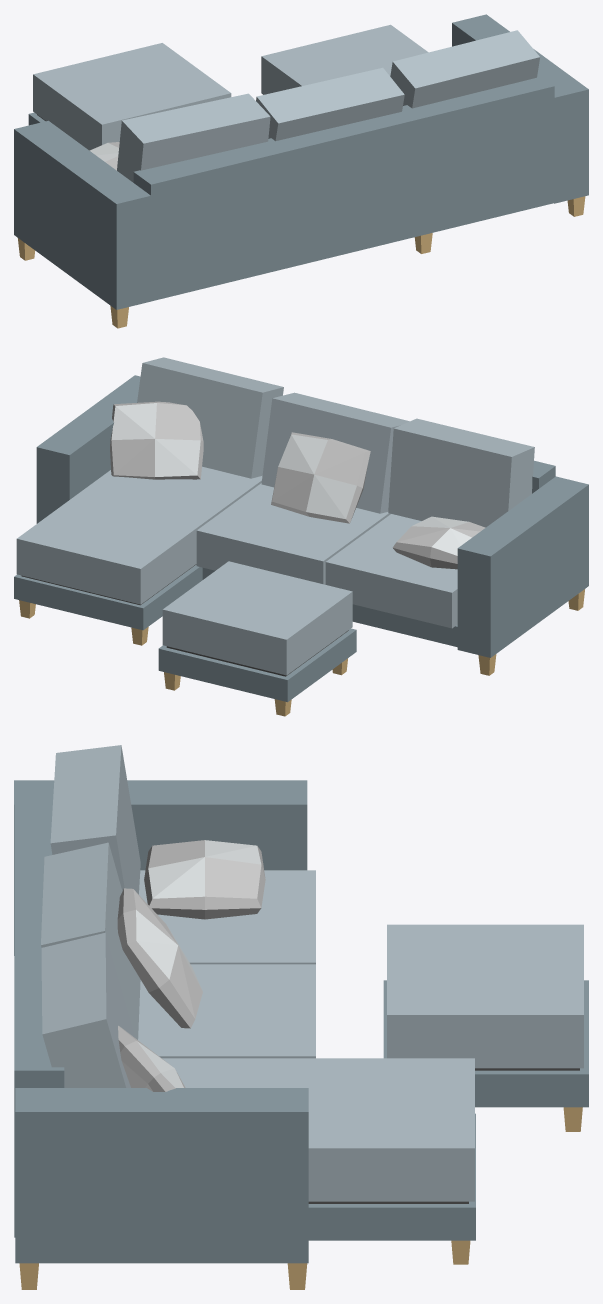
File: couch.fbx
3 renders of one model, top to bottom at view 1: azimuth 30°, elevation 25°; view 2: azimuth 150°, elevation 25°; view 3: azimuth 270°, elevation 25°, orthographic. The views are drawn at different scales.
Parts seen in each view (by area): view 1: group1177553632, group555617489, group1633872756, group1082007962, group384254947, group1730164428, group1099761130, group1314930489, group1922069655; view 2: group1633872756, group1099761130, group555617489, group1082007962, group198131767, group384254947, group737595770, group1730164428, group508393492, group1307475515, group1314930489, group1434836141 (+3 smaller); view 3: group1314930489, group1633872756, group1099761130, group198131767, group555617489, group384254947, group1177553632, group737595770, group1082007962, group1922069655, group1730164428, group1434836141 (+2 smaller).
Part boxes in pixels (x1=…): group1177553632: x1=133, y1=74, x2=554, y2=301; group555617489: x1=14, y1=120, x2=150, y2=309; group1633872756: x1=28, y1=43, x2=231, y2=150; group1082007962: x1=117, y1=93, x2=270, y2=182; group384254947: x1=390, y1=30, x2=539, y2=108; group1730164428: x1=256, y1=67, x2=404, y2=141; group1099761130: x1=261, y1=24, x2=428, y2=94; group1314930489: x1=452, y1=14, x2=588, y2=203; group1922069655: x1=89, y1=142, x2=119, y2=170; group1633872756: x1=158, y1=561, x2=356, y2=716; group1099761130: x1=16, y1=466, x2=262, y2=604; group555617489: x1=457, y1=476, x2=588, y2=657; group1082007962: x1=388, y1=418, x2=534, y2=527; group198131767: x1=196, y1=483, x2=390, y2=584; group384254947: x1=137, y1=357, x2=283, y2=478; group737595770: x1=325, y1=514, x2=457, y2=628; group1730164428: x1=261, y1=392, x2=409, y2=513; group508393492: x1=110, y1=401, x2=203, y2=479; group1307475515: x1=271, y1=432, x2=370, y2=523; group1314930489: x1=36, y1=375, x2=140, y2=523; group1434836141: x1=14, y1=564, x2=202, y2=630; group1314930489: x1=15, y1=1088, x2=308, y2=1263; group1633872756: x1=383, y1=924, x2=588, y2=1131; group1099761130: x1=162, y1=1058, x2=474, y2=1201; group198131767: x1=138, y1=964, x2=315, y2=1058; group555617489: x1=14, y1=780, x2=307, y2=955; group384254947: x1=41, y1=932, x2=135, y2=1087; group1177553632: x1=14, y1=789, x2=64, y2=1237; group737595770: x1=139, y1=870, x2=315, y2=964; group1082007962: x1=50, y1=745, x2=140, y2=894; group1922069655: x1=144, y1=840, x2=265, y2=919; group1730164428: x1=41, y1=842, x2=140, y2=1039; group1434836141: x1=308, y1=1113, x2=475, y2=1240.
Bounding box in the file's own units: 186 × 65.07 × 137.
